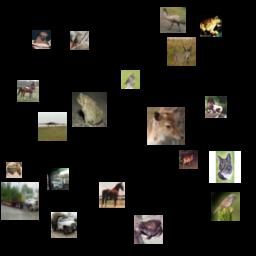airplane: (38, 112, 67, 141)
bird: (211, 192, 240, 221), (160, 7, 186, 33), (70, 31, 89, 50), (121, 70, 140, 89)
cat: (209, 151, 241, 183)
deer: (147, 107, 185, 145), (167, 37, 196, 66), (179, 150, 198, 169)
dog: (32, 30, 51, 49)
frog: (72, 92, 107, 127), (134, 215, 163, 244), (200, 15, 222, 37), (6, 162, 22, 178)
truck: (1, 182, 39, 220), (51, 212, 77, 238), (47, 168, 69, 190)
